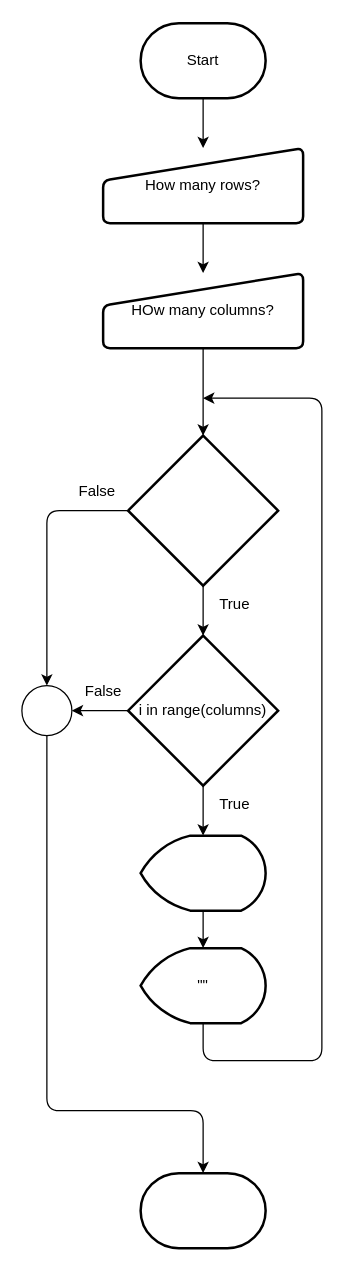
Some shapes in this 354 by 1270 pixel diagram are drawn without their labels. Here are the shapes that lost their labels. From the top down, the centre of each, then its label:
the point at 202,510: i in range(rows)
the point at 202,872: '*', end=''
the point at 202,1210: End
